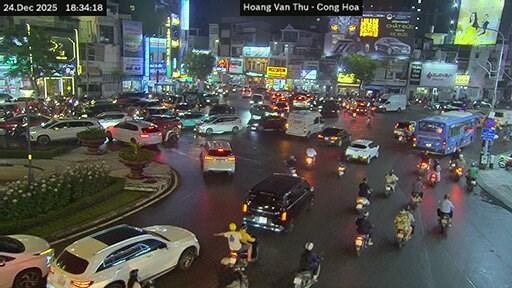motorbike: (227, 257, 248, 287), (294, 270, 314, 287), (355, 234, 367, 255), (230, 251, 246, 265), (396, 229, 408, 247), (438, 215, 450, 232), (355, 197, 368, 212), (409, 193, 421, 208), (250, 242, 258, 261), (466, 175, 476, 190), (454, 166, 463, 180), (384, 183, 393, 197), (428, 171, 437, 185), (418, 162, 428, 174), (141, 279, 153, 287), (338, 162, 344, 176), (288, 166, 297, 175), (306, 156, 313, 167), (397, 135, 406, 142), (448, 160, 454, 170), (316, 264, 320, 274), (365, 117, 370, 125), (351, 112, 355, 118)
